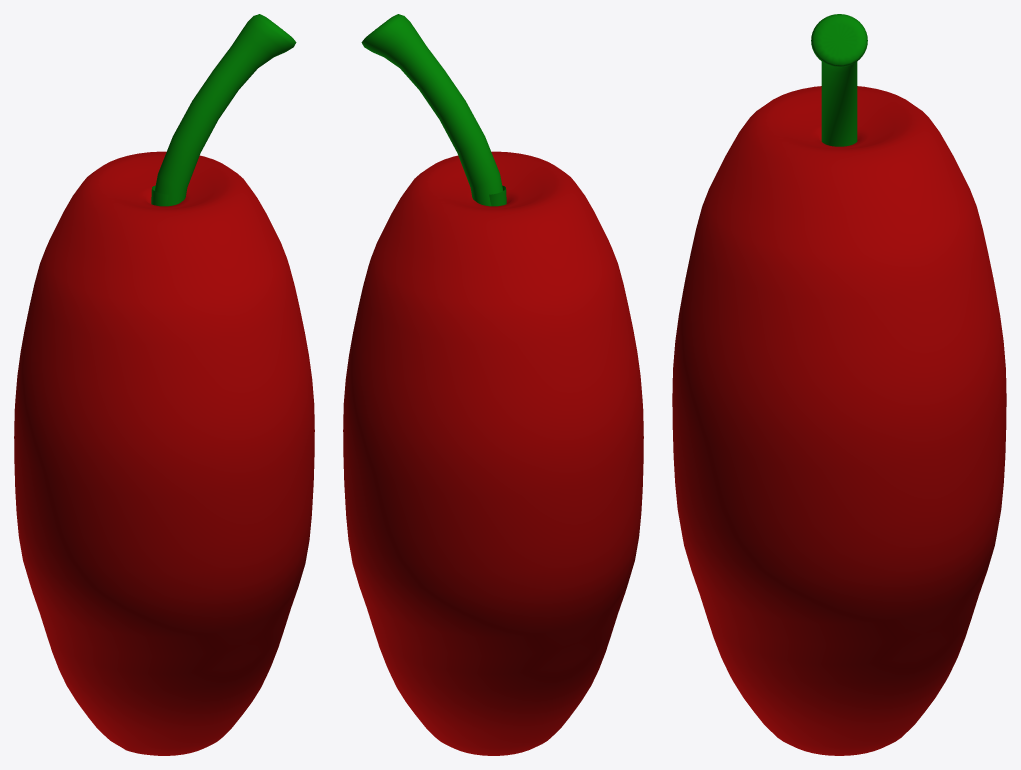
The model's file is stretchycherry.fbx.
3 renders of one model, left to right at view 1: azimuth 30°, elevation 25°; view 2: azimuth 150°, elevation 25°; view 3: azimuth 270°, elevation 25°, orthographic. The views are drawn at different scales.
Visible parts, largest first — view 1: pSphere1; view 2: pSphere1; view 3: pSphere1.
Part boxes in pixels (box(x1,y1,x2,y2)): pSphere1: box(14, 14, 314, 755); pSphere1: box(343, 14, 643, 755); pSphere1: box(672, 14, 1006, 755).
Bounding box in the file's own units: 1.55 × 4.02 × 1.55.
